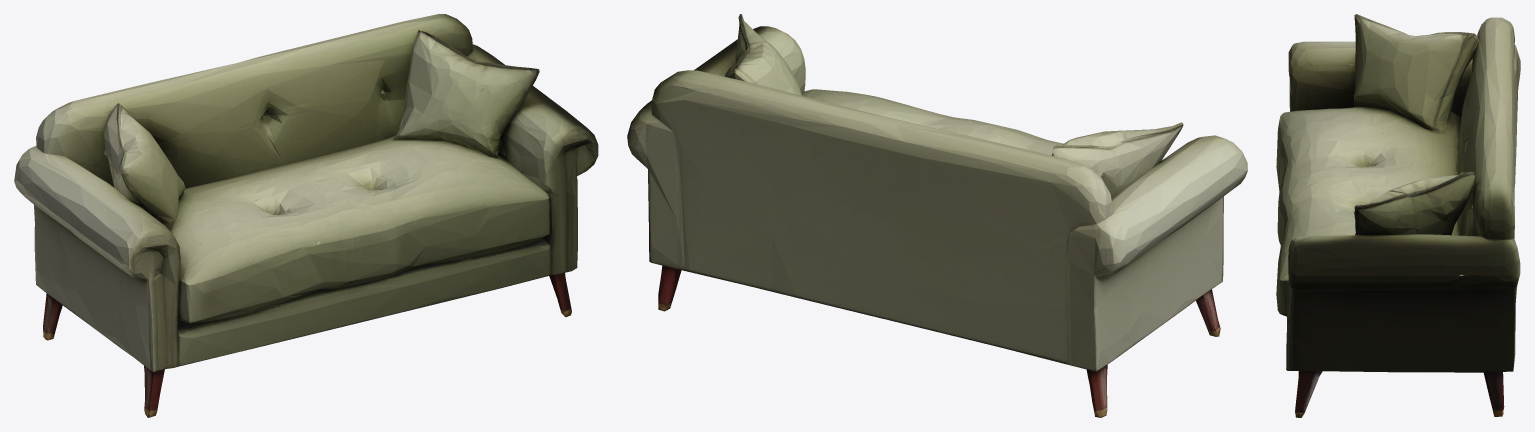
The model's file is sofa.glb.
The picture shows the model from 3 angles, left to right: view 1: azimuth 30°, elevation 25°; view 2: azimuth 150°, elevation 25°; view 3: azimuth 270°, elevation 25°; orthographic projection. The views are drawn at different scales.
Visible parts, largest first — view 1: world; view 2: world; view 3: world.
Boxes of the visible parts, <box> form: world: <box>14,14,598,417</box>; world: <box>627,14,1247,417</box>; world: <box>1276,14,1520,417</box>.
Size of the model in its own units: 1 by 0.4705 by 0.4716.
Materials: 1 (1 with a texture image).
